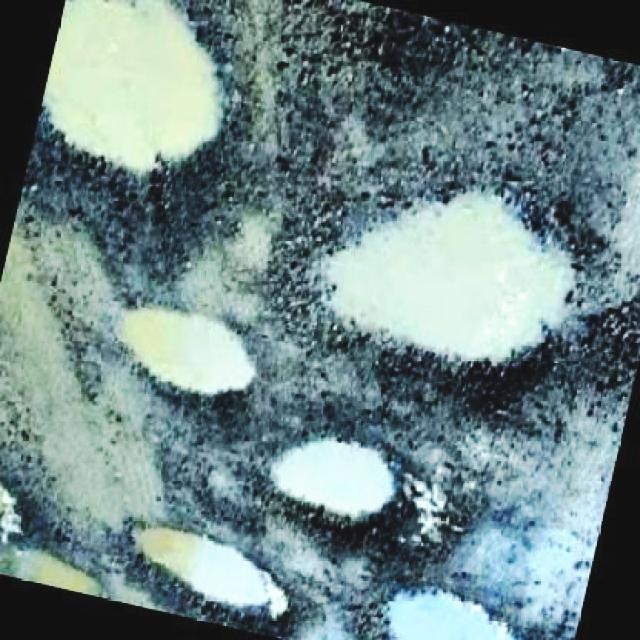pothole: (291, 152, 617, 414), (21, 1, 274, 217), (235, 426, 452, 545), (112, 515, 302, 637), (106, 292, 265, 406), (0, 476, 108, 592), (369, 577, 525, 640)
